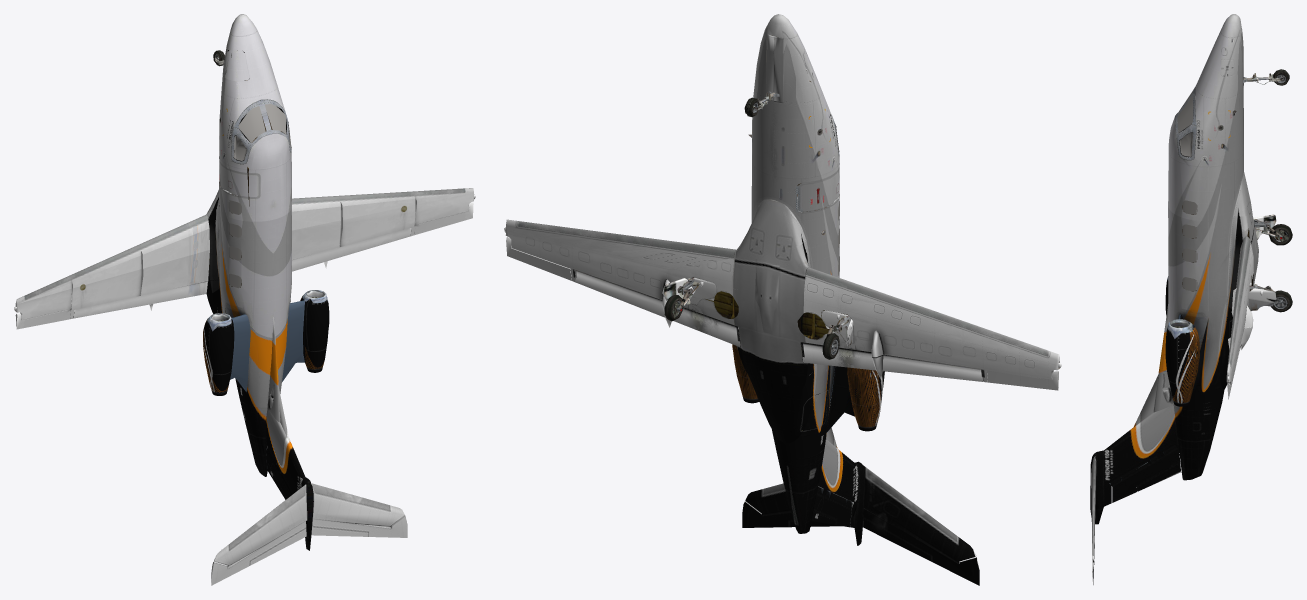
Rendered from phenom.glb.
The picture shows the model from 3 angles, left to right: view 1: azimuth 30°, elevation 25°; view 2: azimuth 150°, elevation 25°; view 3: azimuth 270°, elevation 25°; orthographic projection. The views are drawn at different scales.
Visible parts, largest first — view 1: Fuselage; view 2: Fuselage, gear; view 3: Fuselage, gear.
Boxes of the visible parts, x1,y1,x2,y2 form: Fuselage: (14,14,475,585); Fuselage: (504,14,1061,585); gear: (662,91,853,359); Fuselage: (1090,14,1258,584); gear: (1243,69,1292,312).
Bounding box in the file's own units: 12.76 × 13.18 × 4.64.
Materials: 1 (1 with a texture image).
